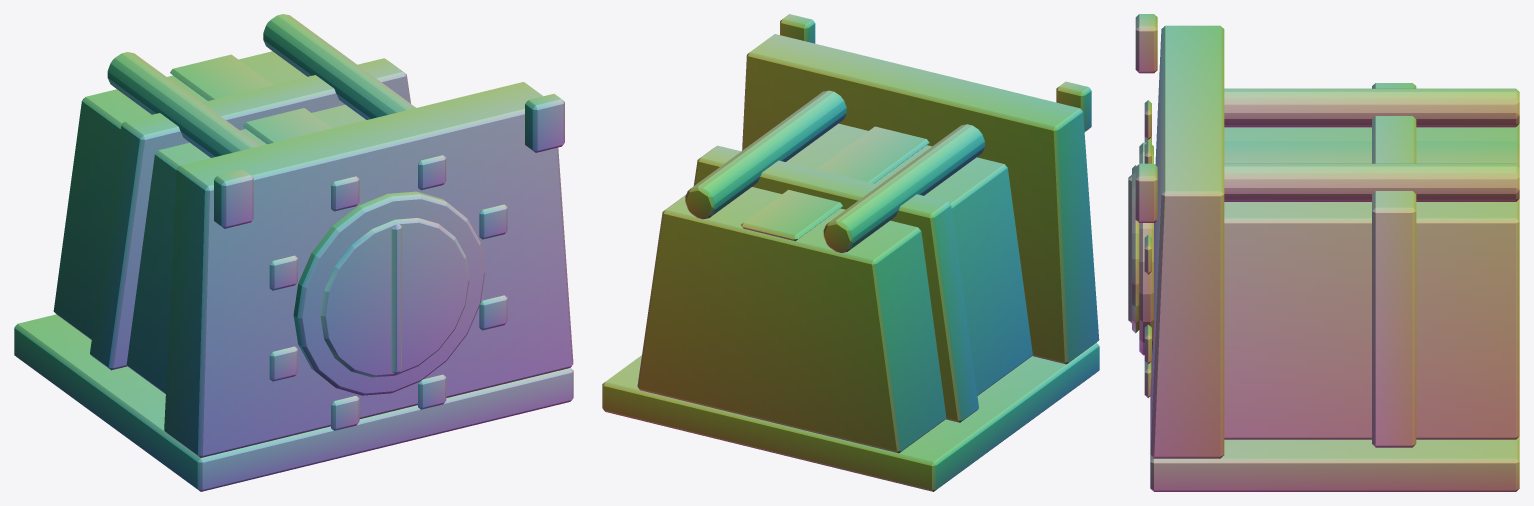
File: port_rig.glb
3 renders of one model, left to right at view 1: azimuth 30°, elevation 25°; view 2: azimuth 150°, elevation 25°; view 3: azimuth 270°, elevation 25°, orthographic. The views are drawn at different scales.
Parts seen in each view (by area): view 1: body; view 2: body; view 3: body.
Boxes of the visible parts, x1=… form: body: x1=14, y1=14, x2=573, y2=491; body: x1=602, y1=14, x2=1099, y2=491; body: x1=1128, y1=14, x2=1519, y2=491.
Bounding box in the file's own units: 5.8 × 4.6 × 5.3.
